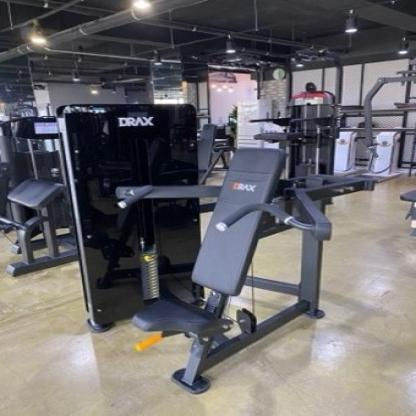shoulder press machine: (43, 98, 366, 404)
